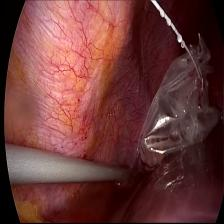Specimen Bag: (134, 20, 223, 176)
